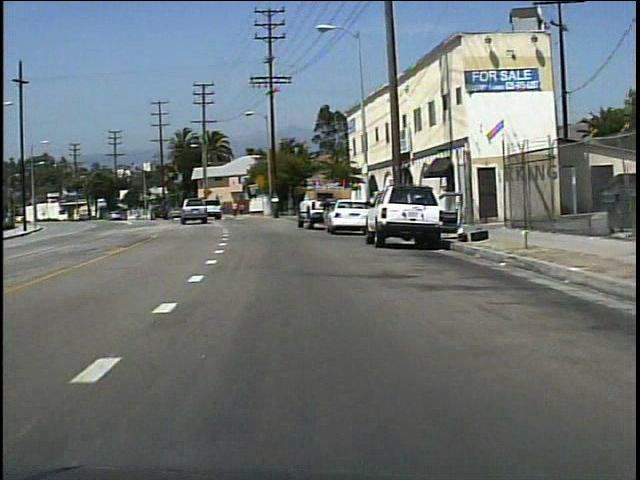person: (317, 192, 336, 233), (231, 198, 241, 219), (239, 201, 247, 218)
